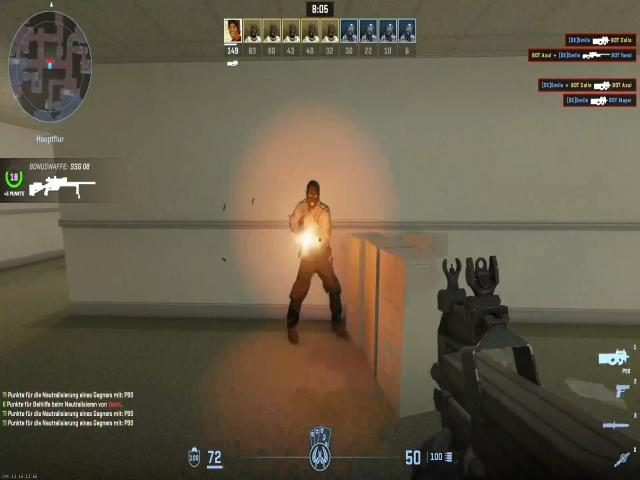T: (287, 174, 337, 269)
T-Head: (300, 178, 328, 209)
